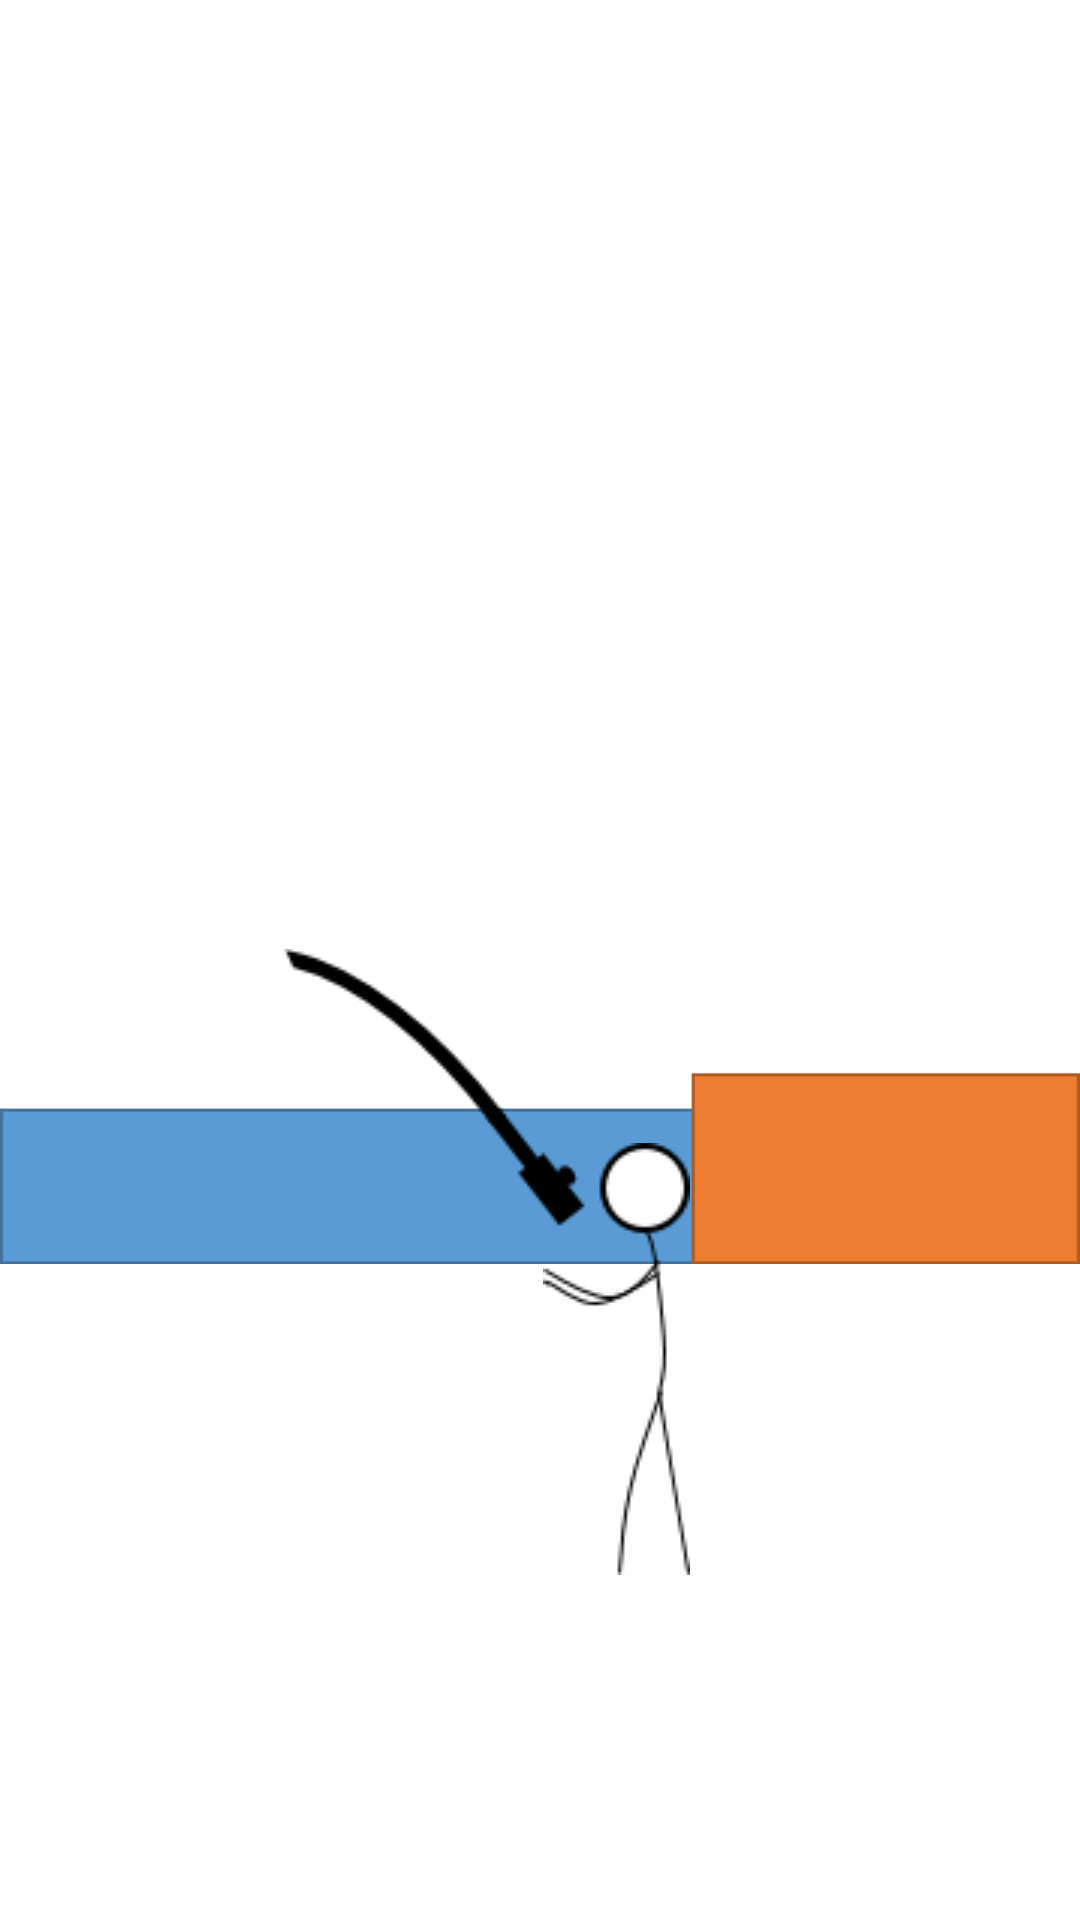

Named icons in this screenshot (1080px x 1920px) and their centers, point (x, y):
rod: point (435, 1088)
